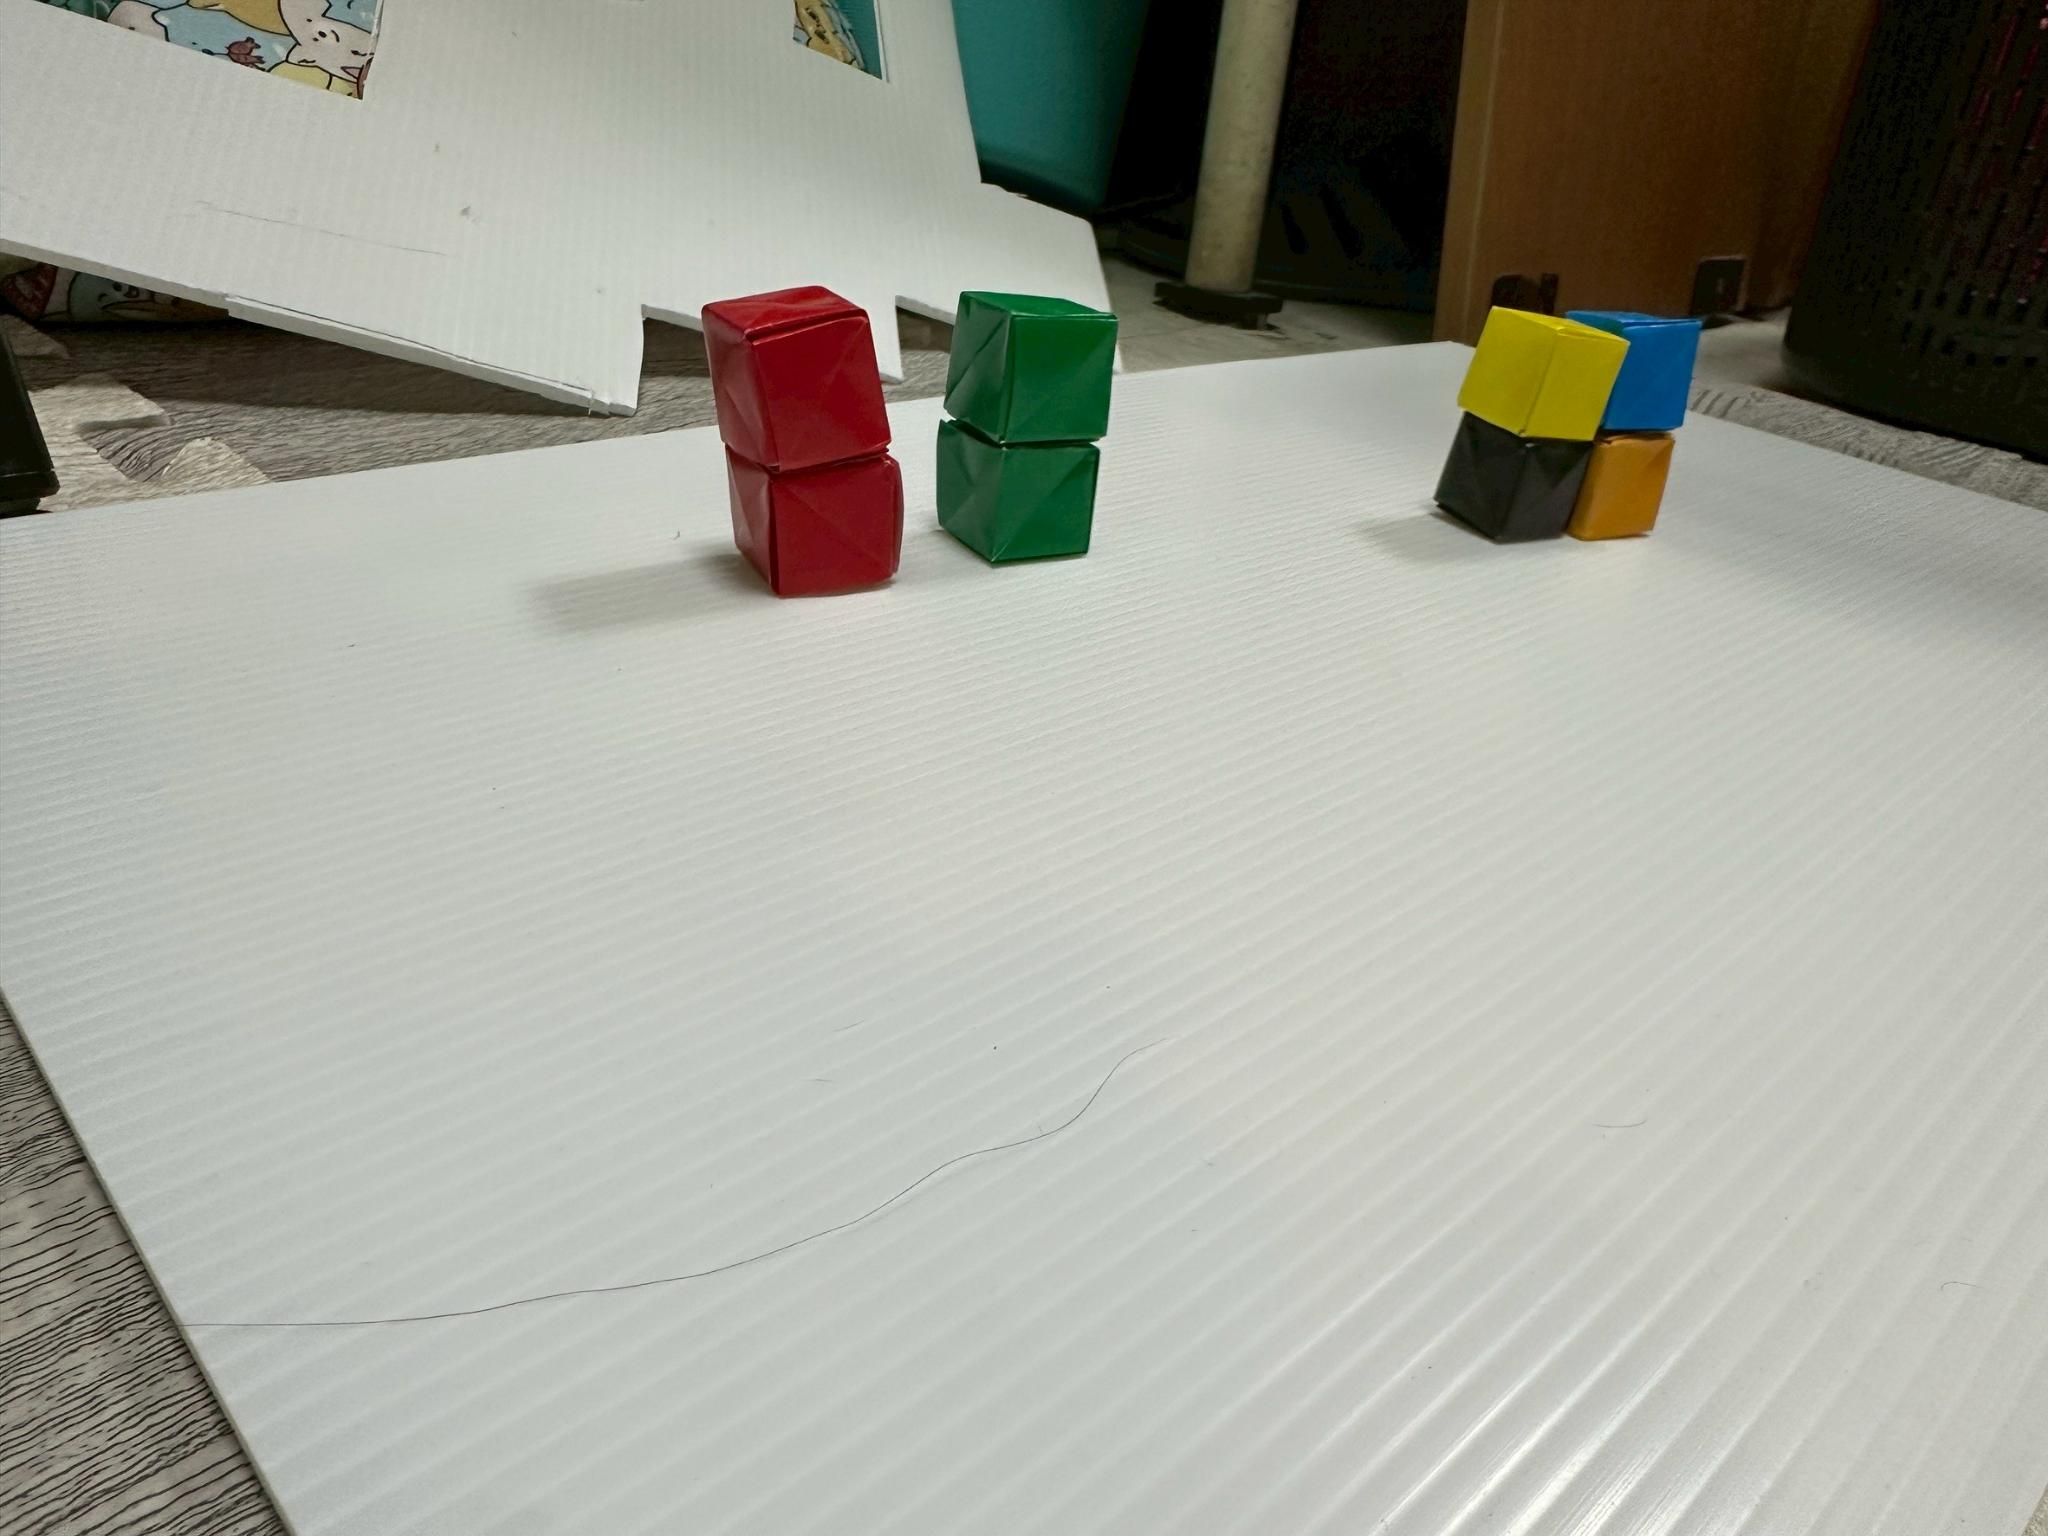base: (705, 287, 889, 470), (947, 290, 1119, 440), (729, 447, 903, 595), (937, 418, 1100, 563), (1459, 307, 1630, 440), (1435, 413, 1593, 542), (1567, 311, 1703, 432), (1567, 432, 1675, 541)
